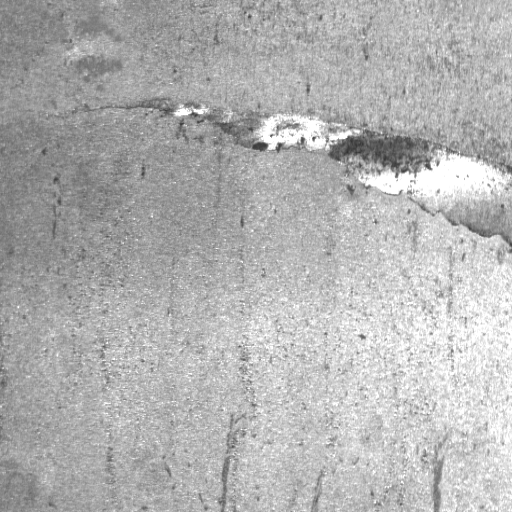qiaopi: (131, 94, 512, 255)
